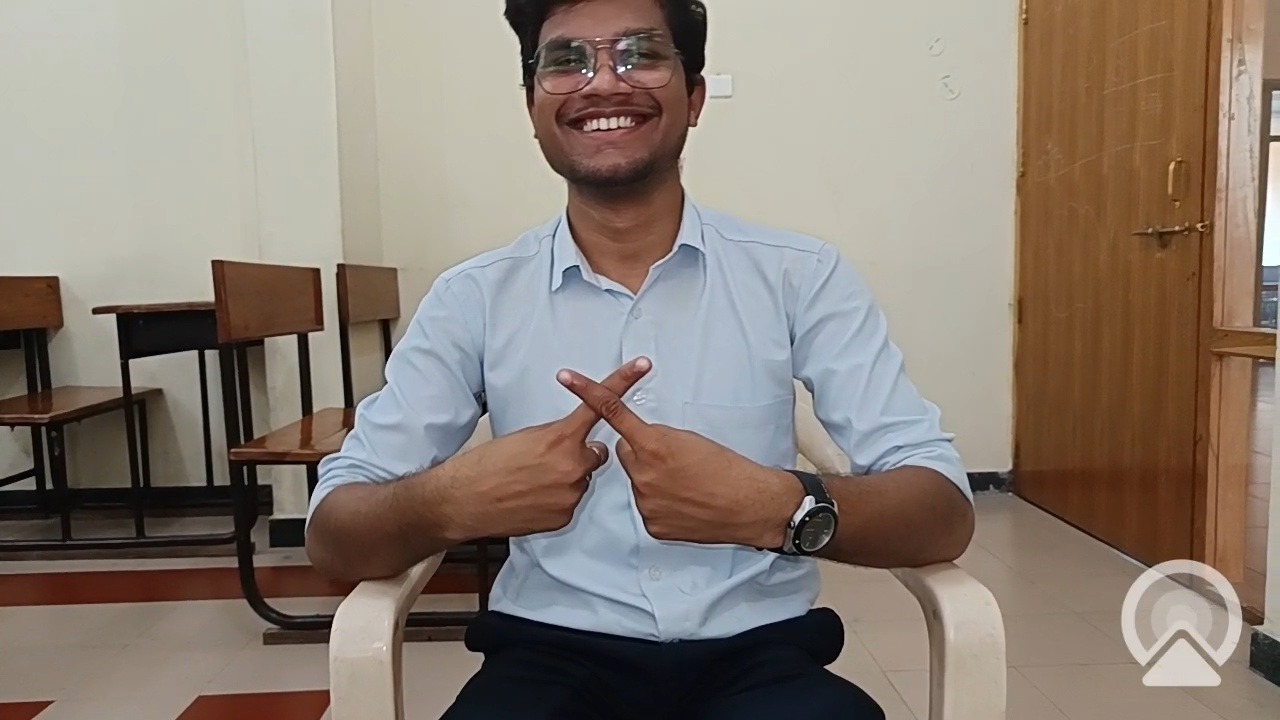X: (405, 324, 740, 602)
